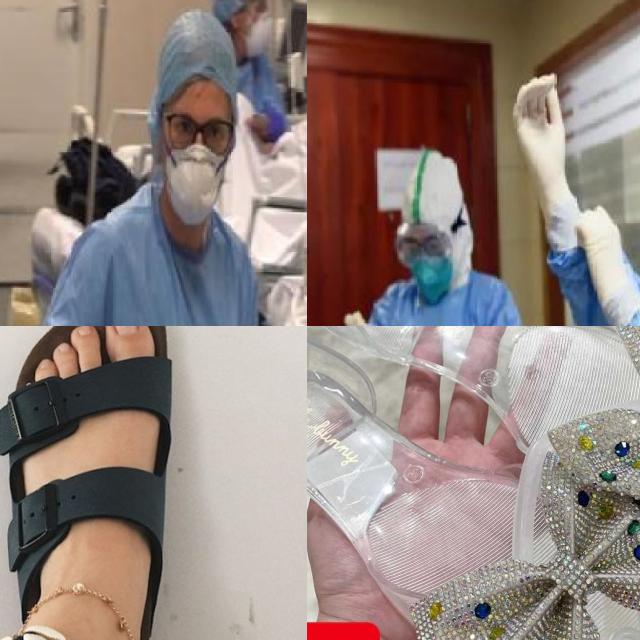Sandals: (307, 326, 640, 640), (0, 326, 182, 640)
face_mask: (339, 134, 539, 326), (559, 13, 640, 326), (159, 100, 227, 234), (393, 227, 459, 291)
glasses: (162, 107, 236, 155), (388, 225, 457, 268)
hand_glove: (512, 73, 574, 185), (574, 207, 633, 300), (342, 308, 386, 326)
head_nohelmet: (147, 40, 244, 106)
person: (0, 17, 299, 326)
